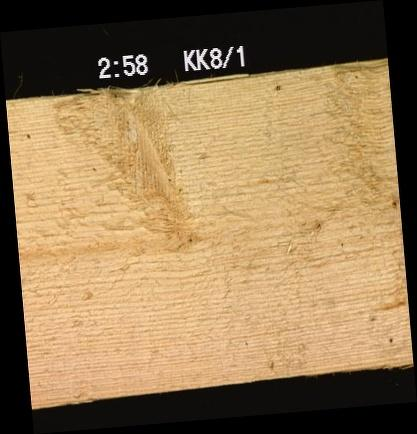small_knot: (389, 198, 397, 208), (273, 82, 280, 92)
